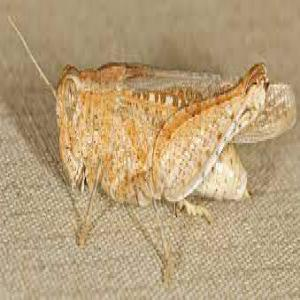locust: (46, 32, 300, 205)
